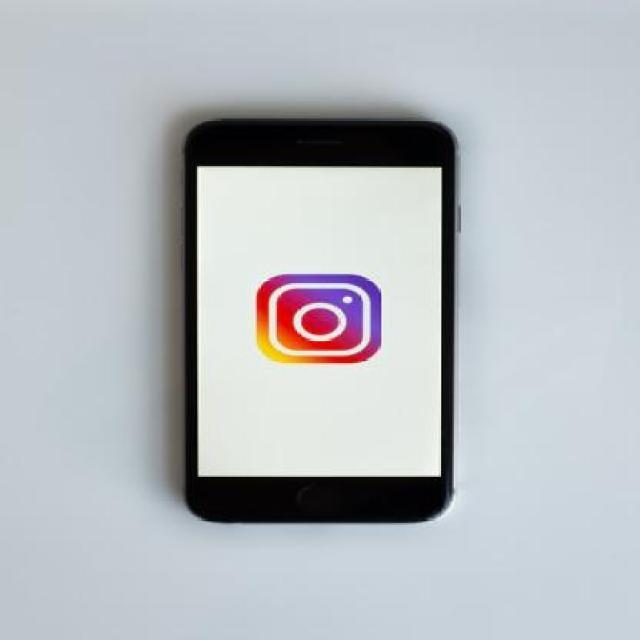phone: (179, 113, 453, 525)
